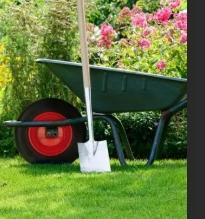BROUETTE: (4, 51, 72, 170), (117, 67, 187, 173)
PELLE: (75, 2, 115, 179)
